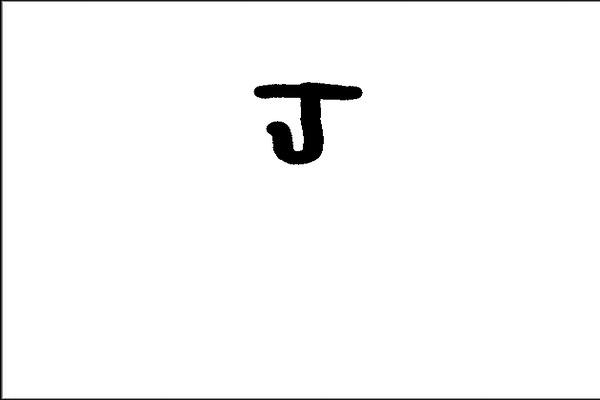J: (247, 72, 369, 171)
